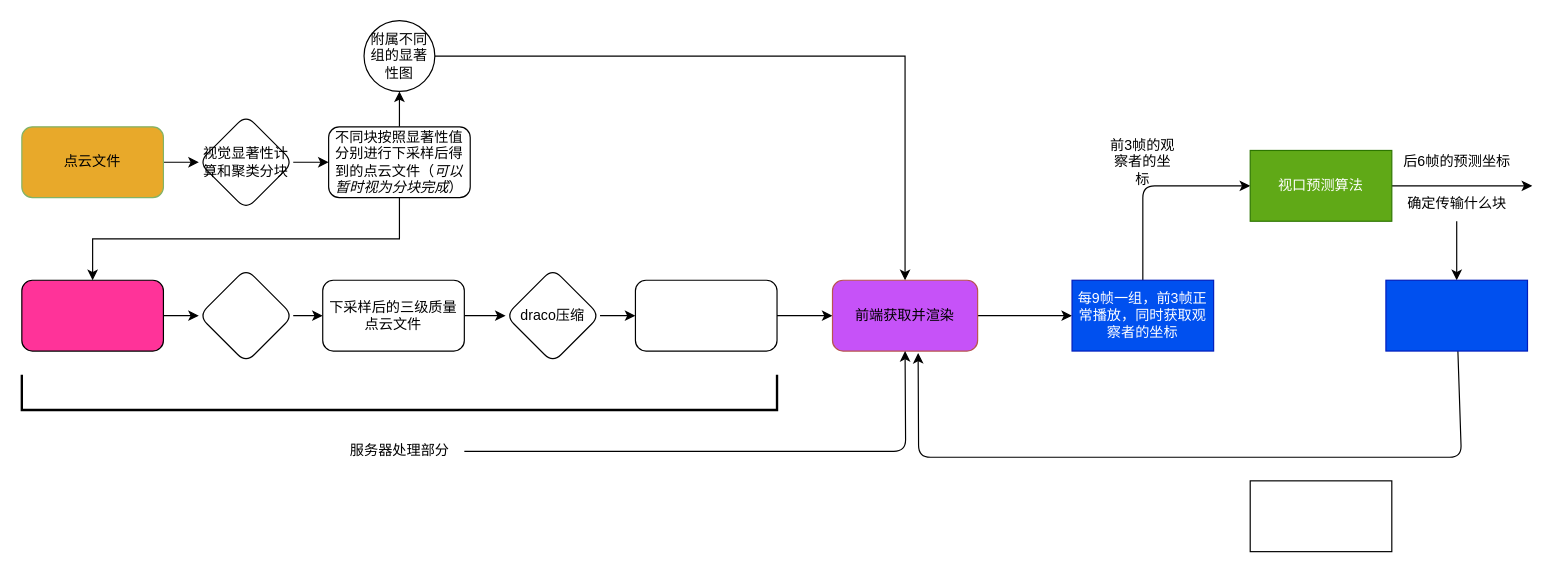
This 1562x572 diagram has some shape labels left out. The centre of each missing label's shape, as x and y in pixels:
"下采样成不同的质量等级" belongs at [245,315].
"中转文件" belongs at [92,315].
"压缩后的三级质量的drc文件" belongs at [705,315].
"理论上可行，但是实际上不太好确定" belongs at [1320,516].
"生成ply文件" belongs at [1456,315].
